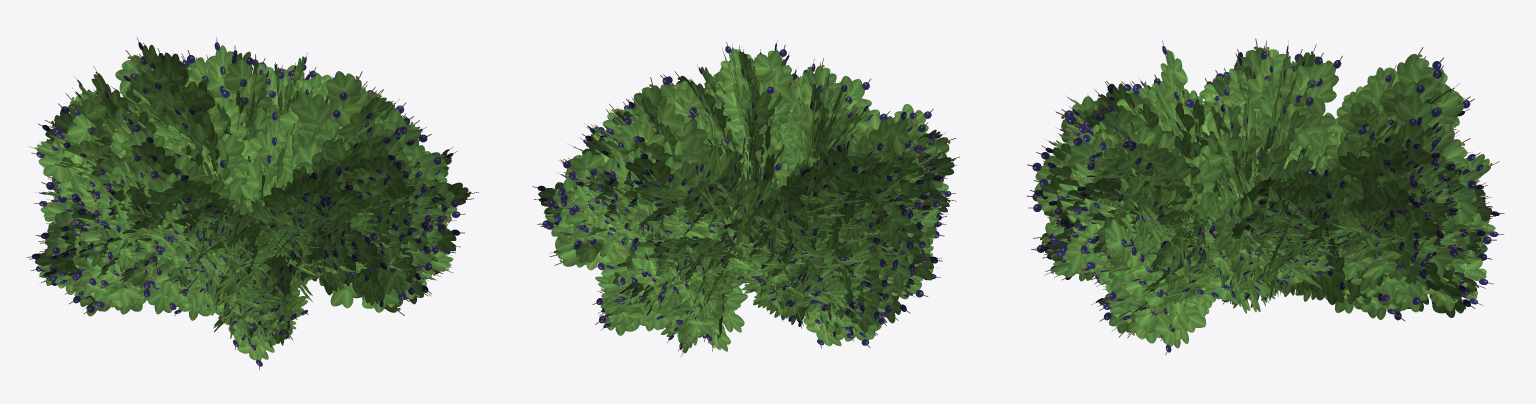
The model's file is bilberry_low_v01.fbx.
3 renders of one model, left to right at view 1: azimuth 30°, elevation 25°; view 2: azimuth 150°, elevation 25°; view 3: azimuth 270°, elevation 25°, orthographic. The views are drawn at different scales.
Visible parts, largest first — view 1: bilberry_low_v01; view 2: bilberry_low_v01; view 3: bilberry_low_v01.
Boxes of the visible parts, bbox=[...] form: bilberry_low_v01: bbox=[26, 37, 478, 369]; bilberry_low_v01: bbox=[532, 40, 959, 357]; bilberry_low_v01: bbox=[1027, 38, 1504, 355].
Size of the model in its own units: 56.75 by 38 by 60.18.
2 materials, 2 textured.
